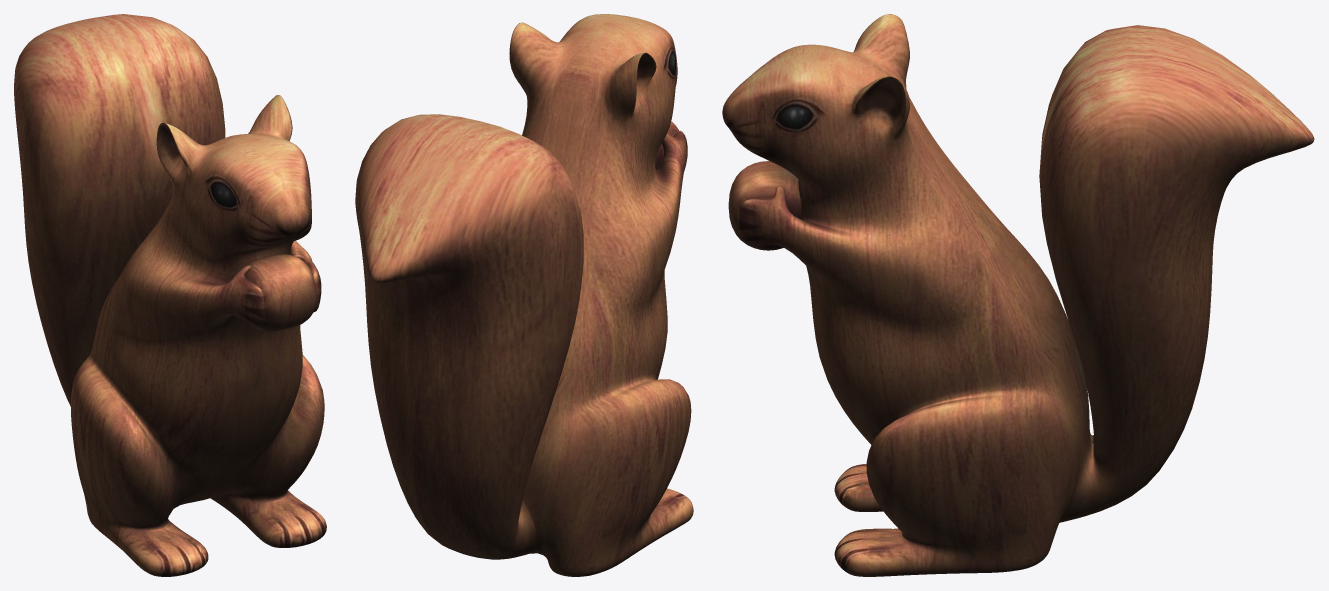
File: squirrel.gltf
The picture shows the model from 3 angles, left to right: view 1: azimuth 30°, elevation 25°; view 2: azimuth 150°, elevation 25°; view 3: azimuth 270°, elevation 25°; orthographic projection. The views are drawn at different scales.
Visible parts, largest first — view 1: 10051_Squirrel_v2_L3; view 2: 10051_Squirrel_v2_L3; view 3: 10051_Squirrel_v2_L3.
Part boxes in pixels (<box>): 10051_Squirrel_v2_L3: <box>14,14,326,576</box>; 10051_Squirrel_v2_L3: <box>355,14,693,576</box>; 10051_Squirrel_v2_L3: <box>722,14,1314,576</box>.
Size of the model in its own units: 2.04 by 3.93 by 4.33.
Materials: 1 (1 with a texture image).
